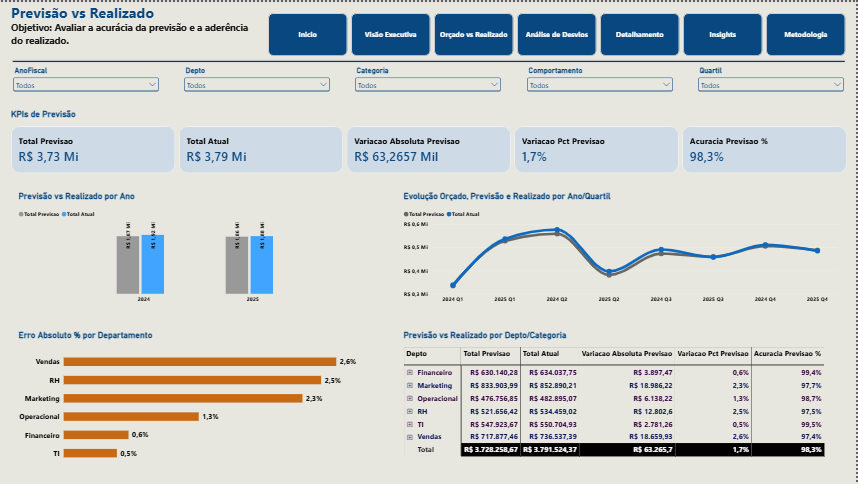

Layout of this report page (visuals, bound fields, positions):
{"tool":"powerbi","page":{"name":"Previsão vs Realizado","canvas":[1920,1080],"ordinal":4},"visuals":[{"type":"textbox","box":[24,0,552,120],"z":0},{"type":"pageNavigator","title":"Áreas de Análise:","box":[600,24,1296,96],"z":1000},{"type":"shape","box":[24,120,1872,24],"z":2000},{"type":"slicer","fields":{"Values":["FatoOrcamento.AnoFiscal"]},"box":[24,144,336,72],"z":3000},{"type":"slicer","fields":{"Values":["FatoOrcamento.Quartil"]},"box":[1560,144,336,72],"z":4000},{"type":"slicer","fields":{"Values":["FatoOrcamento.Depto"]},"box":[408,144,336,72],"z":5000},{"type":"slicer","fields":{"Values":["FatoOrcamento.Comportamento"]},"box":[1176,144,336,72],"z":6000},{"type":"slicer","fields":{"Values":["FatoOrcamento.Categoria"]},"box":[792,144,336,72],"z":7000},{"type":"cardVisual","title":"KPIs de Previsão","fields":{"Data":["Medidas.Total Previsao","Medidas.Total Atual","Medidas.Variacao Absoluta Previsao","Medidas.Variacao Pct Previsao","Medidas.Acuracia Previsao %"]},"box":[24,240,1872,144],"z":7001},{"type":"clusteredColumnChart","title":"Previsão vs Realizado por Ano","fields":{"Category":["FatoOrcamento.AnoFiscal"],"Y":["Medidas.Total Previsao","Medidas.Total Atual"]},"box":[24,408,840,288],"z":7002},{"type":"lineChart","title":"Evolução Orçado, Previsão e Realizado por Ano/Quartil","fields":{"Category":["FatoOrcamento.AnoQuartil"],"Y":["Medidas.Total Previsao","Medidas.Total Atual"]},"box":[888,408,1008,288],"z":7003},{"type":"barChart","title":"Erro Absoluto % por Departamento","fields":{"Category":["FatoOrcamento.Depto"],"Y":["Medidas.Erro Absoluto Pct Previsao"]},"box":[24,720,840,336],"z":7004},{"type":"pivotTable","title":"Previsão vs Realizado por Depto/Categoria","fields":{"Rows":["FatoOrcamento.Depto","FatoOrcamento.Categoria"],"Values":["Medidas.Total Previsao","Medidas.Total Atual","Medidas.Variacao Absoluta Previsao","Medidas.Variacao Pct Previsao","Medidas.Acuracia Previsao %"]},"box":[888,720,1008,336],"z":7005}]}

Visuals, with their boxes in screenshot pixels (x1, y1, x2, y2), scaled from the page's 1920x1080 canvas onto the 858x484 screenshot:
textbox: crop(11, 0, 257, 54)
"Áreas de Análise:" pageNavigator: crop(268, 11, 847, 54)
shape: crop(11, 54, 847, 65)
slicer - FatoOrcamento.AnoFiscal: crop(11, 65, 161, 97)
slicer - FatoOrcamento.Quartil: crop(697, 65, 847, 97)
slicer - FatoOrcamento.Depto: crop(182, 65, 332, 97)
slicer - FatoOrcamento.Comportamento: crop(526, 65, 676, 97)
slicer - FatoOrcamento.Categoria: crop(354, 65, 504, 97)
"KPIs de Previsão" cardVisual: crop(11, 108, 847, 172)
"Previsão vs Realizado por Ano" clusteredColumnChart: crop(11, 183, 386, 312)
"Evolução Orçado, Previsão e Realizado por Ano/Quartil" lineChart: crop(397, 183, 847, 312)
"Erro Absoluto % por Departamento" barChart: crop(11, 323, 386, 473)
"Previsão vs Realizado por Depto/Categoria" pivotTable: crop(397, 323, 847, 473)
